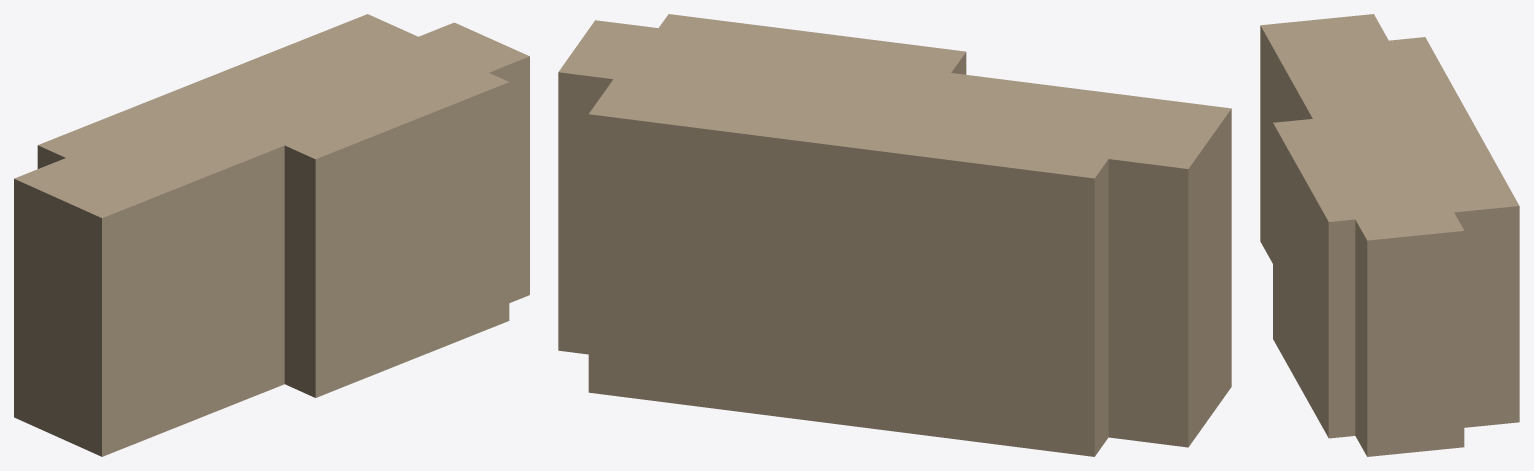
The model's file is bld_106456071.dae.
The picture shows the model from 3 angles, left to right: view 1: azimuth 30°, elevation 25°; view 2: azimuth 150°, elevation 25°; view 3: azimuth 270°, elevation 25°; orthographic projection. The views are drawn at different scales.
Visible parts, largest first — view 1: bld_106456071; view 2: bld_106456071; view 3: bld_106456071.
Part boxes in pixels (left/top/right/bottom): bld_106456071: left=14, top=14, right=529, bottom=456; bld_106456071: left=558, top=14, right=1231, bottom=456; bld_106456071: left=1260, top=14, right=1519, bottom=456.
Size of the model in its own units: 17.96 by 8.68 by 8.
